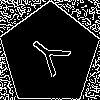Y: (25, 30, 79, 84)
